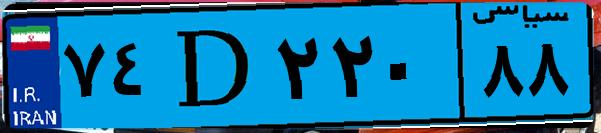0: (385, 28, 445, 110)
2: (270, 28, 330, 110), (330, 28, 385, 110)
4: (110, 28, 158, 98)
7: (57, 26, 110, 100)
8: (475, 38, 525, 113), (525, 38, 570, 115)
D: (158, 12, 270, 120)
